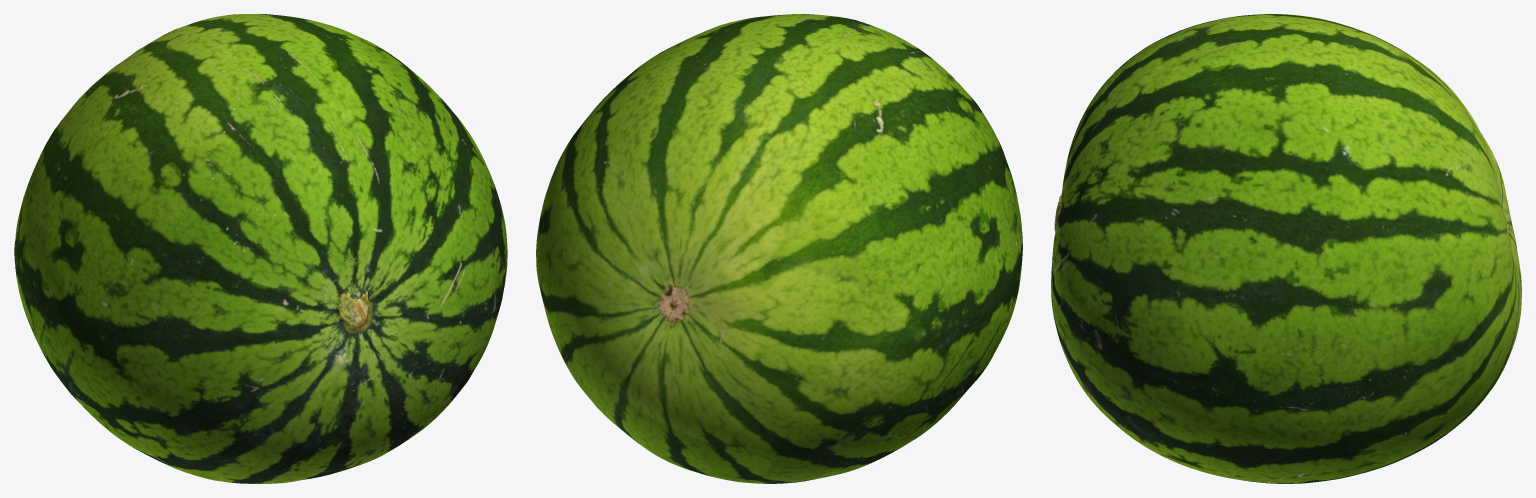
The model's file is Watermelon.glb.
3 views of the same model, side by side, from view 1: azimuth 30°, elevation 25°; view 2: azimuth 150°, elevation 25°; view 3: azimuth 270°, elevation 25° (orthographic).
Visible parts, largest first — view 1: 3DMelon001_HQ-1K-JPG; view 2: 3DMelon001_HQ-1K-JPG; view 3: 3DMelon001_HQ-1K-JPG.
Part boxes in pixels (x1=…): 3DMelon001_HQ-1K-JPG: x1=14, y1=14, x2=507, y2=483; 3DMelon001_HQ-1K-JPG: x1=536, y1=14, x2=1022, y2=483; 3DMelon001_HQ-1K-JPG: x1=1051, y1=14, x2=1521, y2=483.
Size of the model in its own units: 0.2464 by 0.2383 by 0.2409.
Materials: 1 (1 with a texture image).
